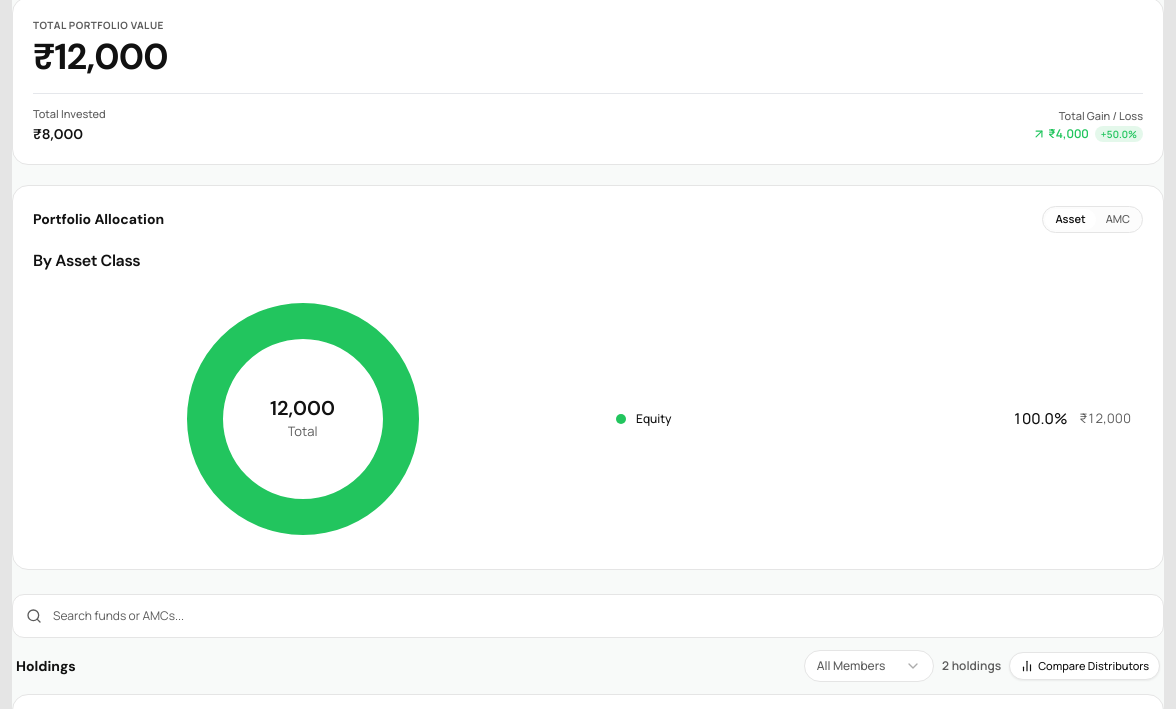
Test case: MobileDashboardView › filters the Holdings list by family member in Family Combined view, combined with search
Expected: the text "2 holdings" is shown, [942,658,1001,674]
Step 1. Press ArrowDown in the dropdown named "Filter holdings by family member", box [804,650,934,682]
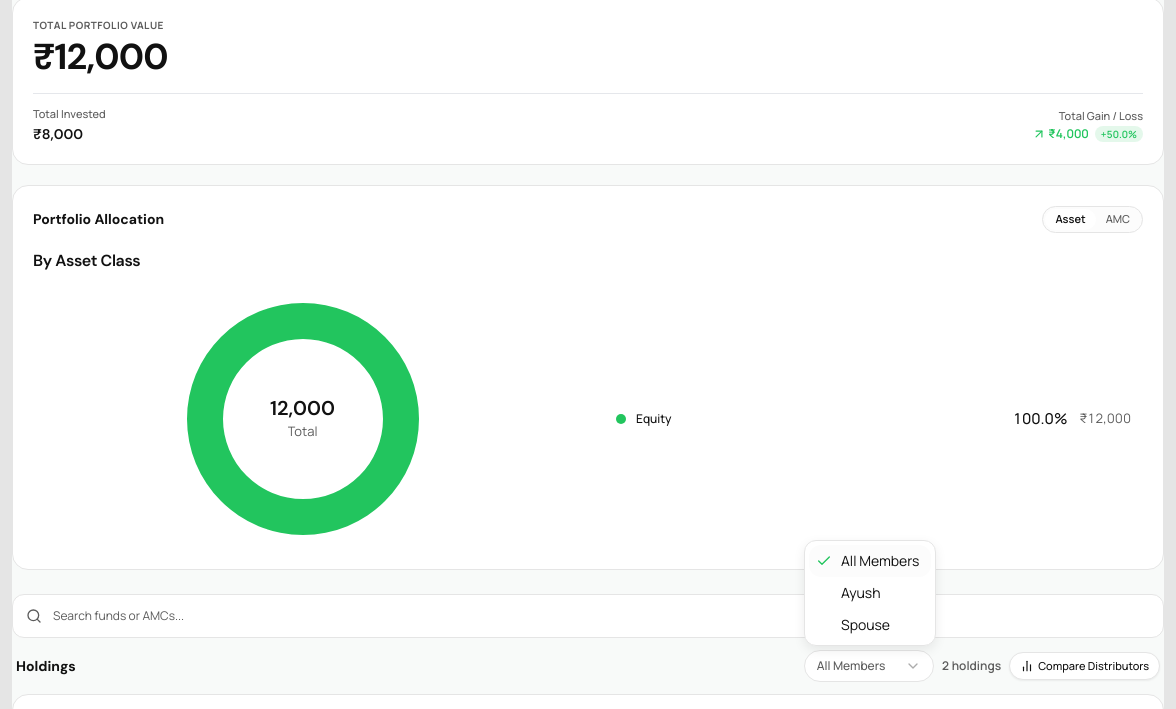
Step 2. Click the option "Spouse" → (866, 624), box [841,615,890,634]
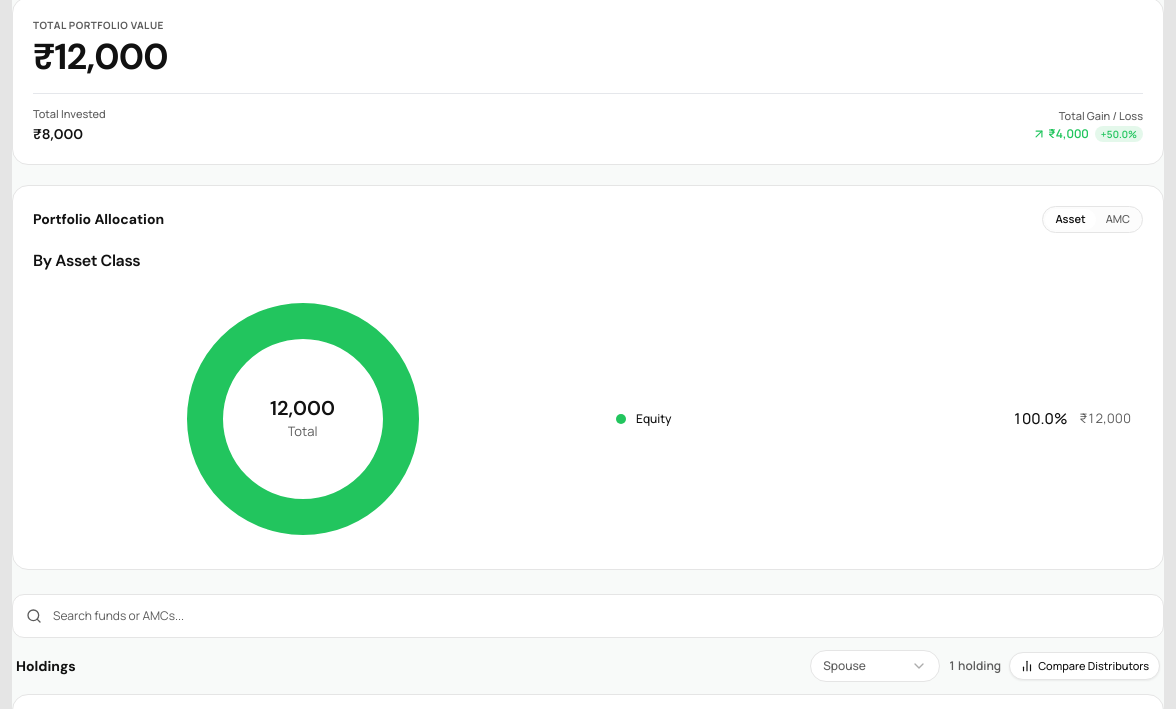
Result: the text "1 holding" is shown at [948,658,1001,674]
Step 3. Type "HDFC" into the field with placeholder "Search funds or AMCs..." → (588, 616), box [12,594,1164,638]
(page scrolled)
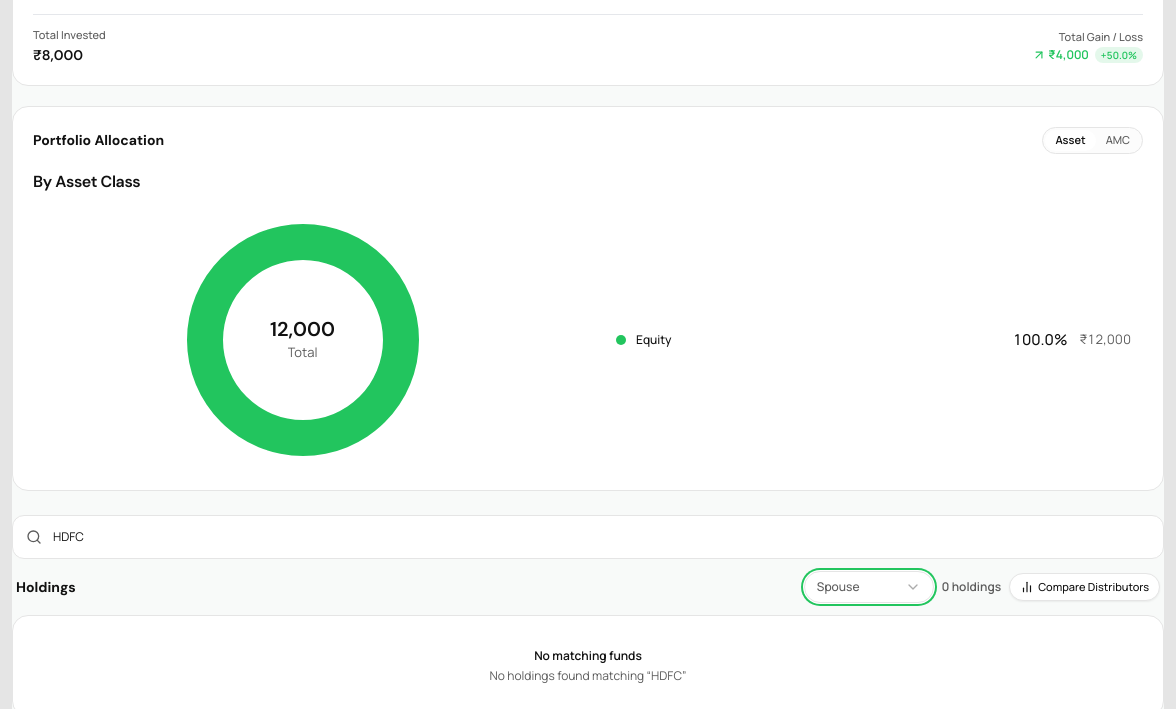
Result: the text "No matching funds" is shown at [534,646,642,664]
